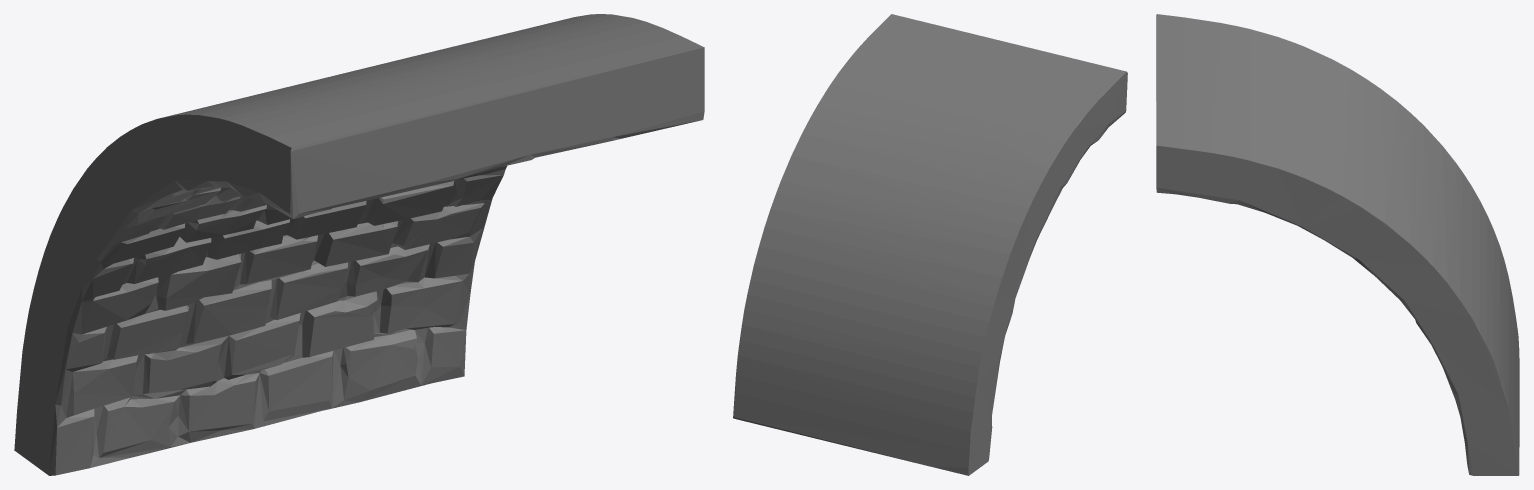
Rendered from modular_wall_arch_3x3m_c.FBX.
The picture shows the model from 3 angles, left to right: view 1: azimuth 30°, elevation 25°; view 2: azimuth 150°, elevation 25°; view 3: azimuth 270°, elevation 25°; orthographic projection. The views are drawn at different scales.
Visible parts, largest first — view 1: modular_wall_arch_3x3m_c; view 2: modular_wall_arch_3x3m_c; view 3: modular_wall_arch_3x3m_c.
Boxes of the visible parts, x1,y1,x2,y2 form: modular_wall_arch_3x3m_c: [14, 14, 704, 475]; modular_wall_arch_3x3m_c: [733, 14, 1127, 475]; modular_wall_arch_3x3m_c: [1156, 14, 1519, 475].
Bounding box in the file's own units: 3.01 × 3.51 × 3.5.
